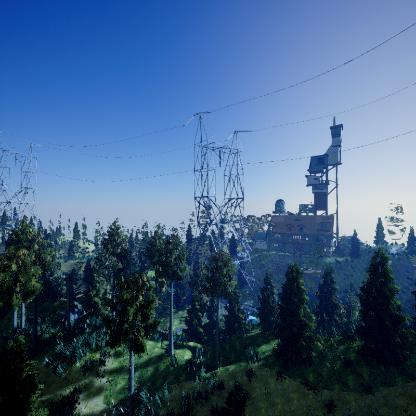tower: (180, 111, 258, 323)
